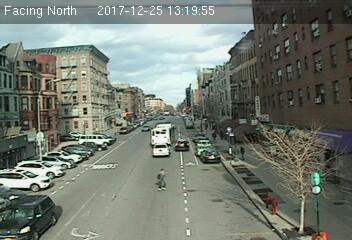bus: (148, 122, 175, 145)
car: (1, 189, 60, 239), (152, 143, 170, 157), (200, 150, 220, 162), (174, 139, 191, 151)
pedestrian: (154, 167, 168, 192)
